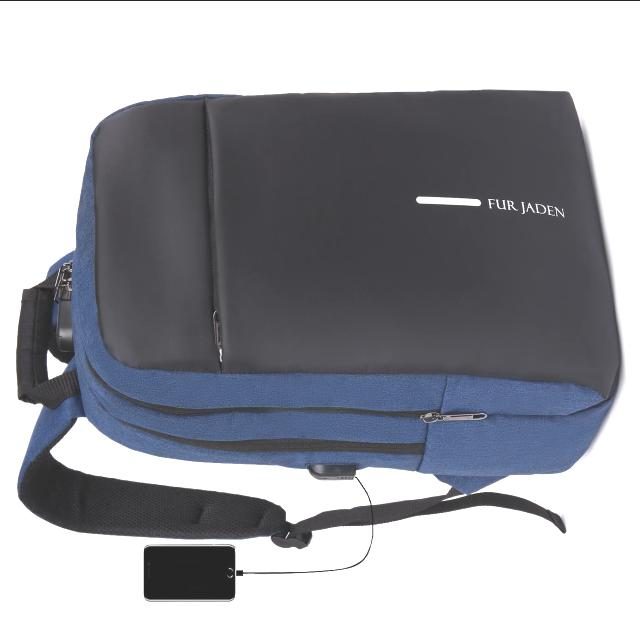backpack: (16, 90, 622, 550)
